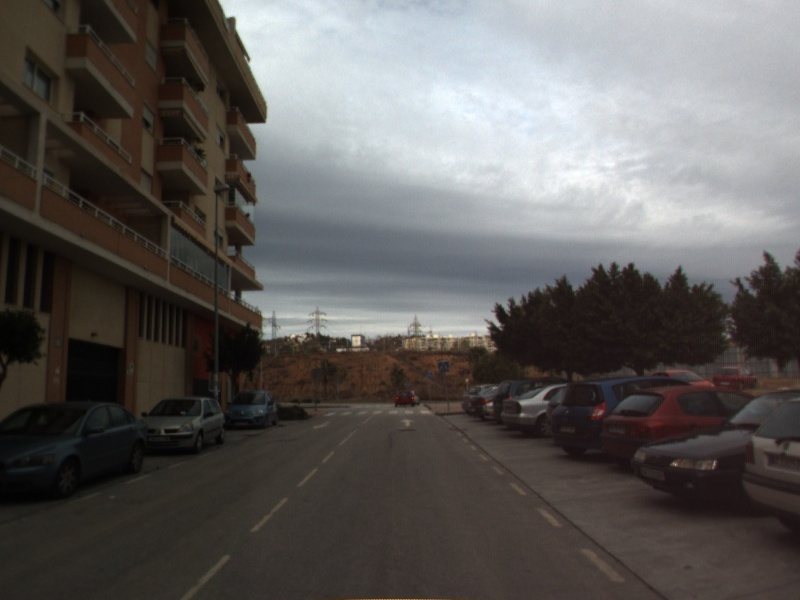STRAIGHT: (398, 417, 417, 429)
